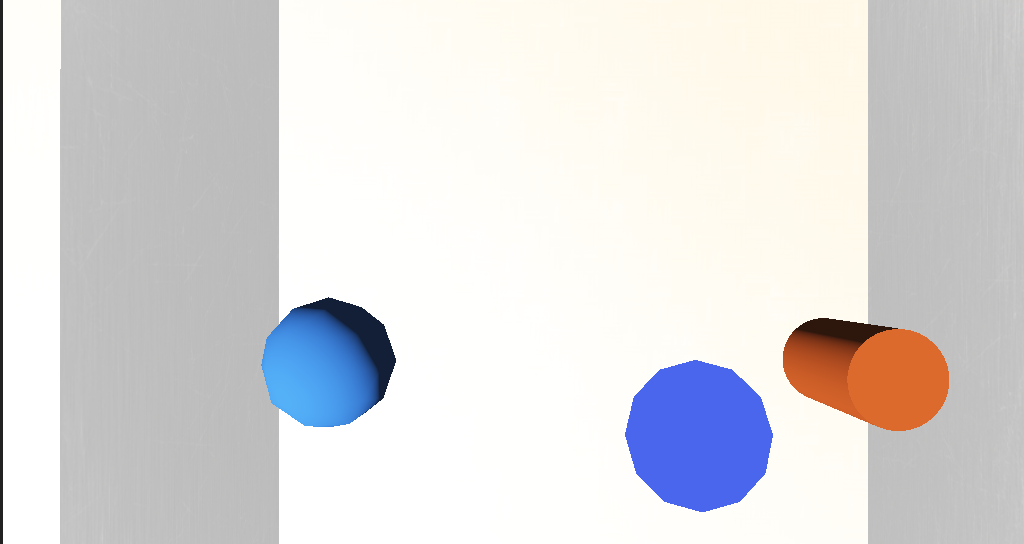cone: (616, 289, 677, 322)
cylinder: (529, 298, 589, 351)
sphere: (350, 279, 418, 322)
